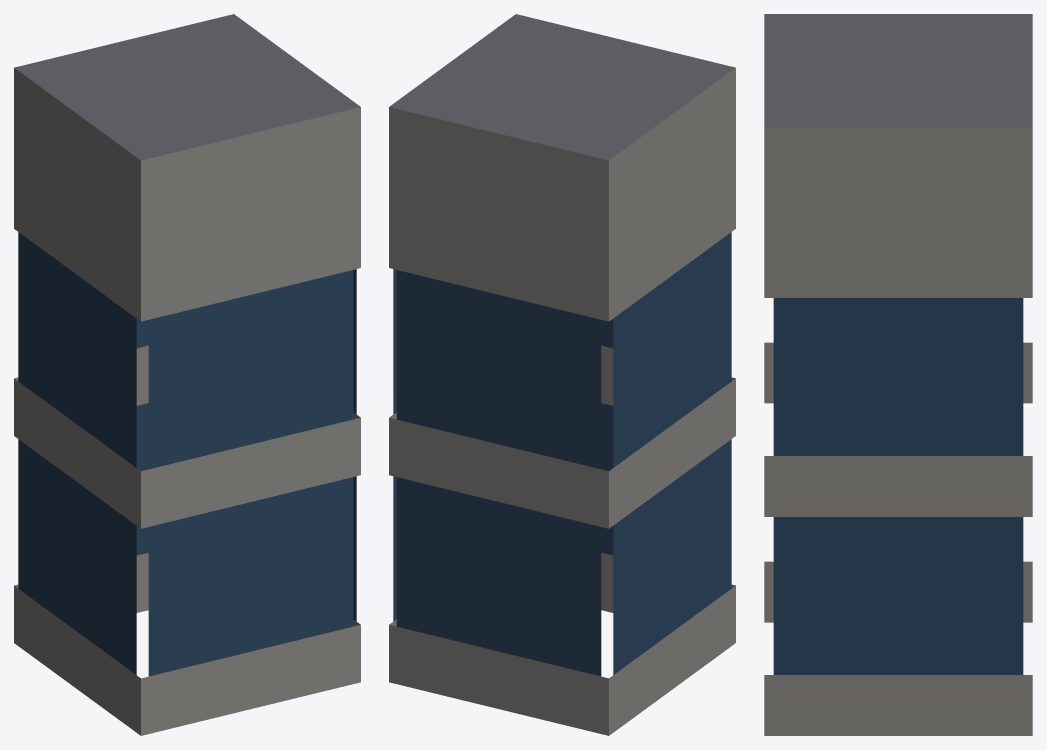
File: tower.obj
The picture shows the model from 3 angles, left to right: view 1: azimuth 30°, elevation 25°; view 2: azimuth 150°, elevation 25°; view 3: azimuth 270°, elevation 25°; orthographic projection. The views are drawn at different scales.
Visible parts, largest first — view 1: tower; view 2: tower; view 3: tower.
Boxes of the visible parts, x1=… form: tower: x1=14, y1=14, x2=360, y2=735; tower: x1=389, y1=14, x2=735, y2=735; tower: x1=764, y1=14, x2=1032, y2=735.
Size of the model in its own units: 2 by 5 by 2.
